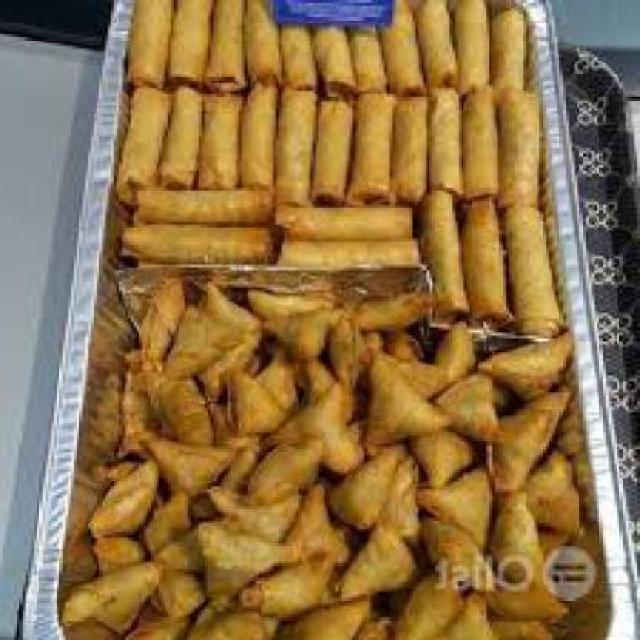samosa: (60, 278, 577, 637)
